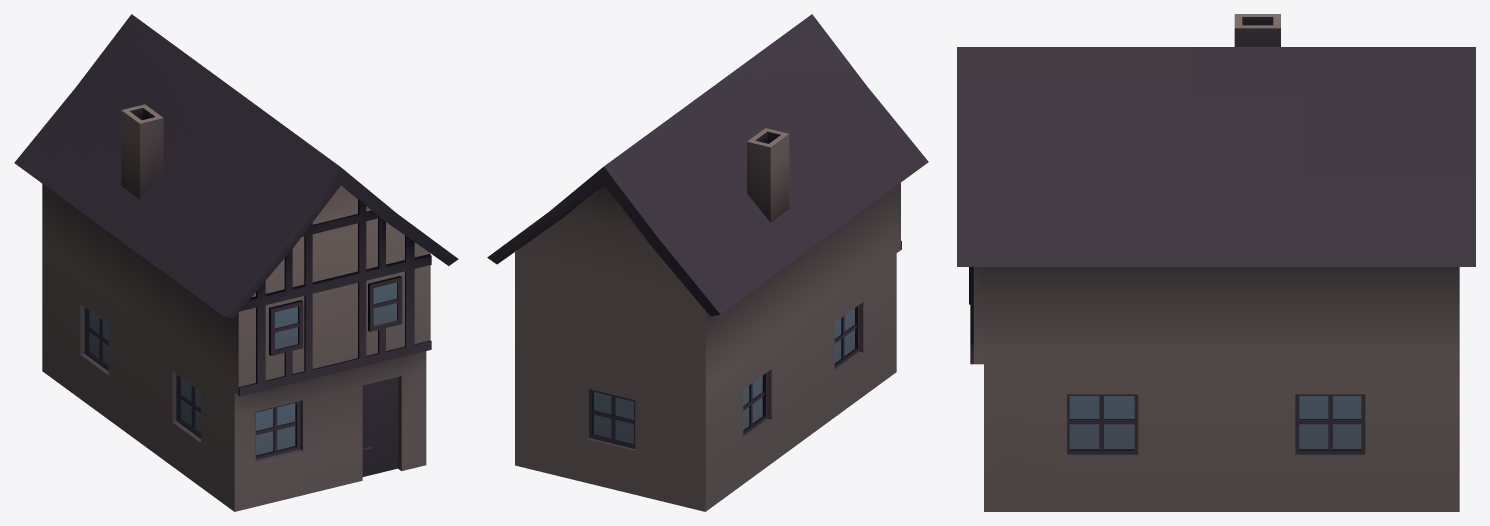
The model's file is buildings-historical-medievalcottage_v4.glb.
3 views of the same model, side by side, from view 1: azimuth 30°, elevation 25°; view 2: azimuth 150°, elevation 25°; view 3: azimuth 270°, elevation 25° (orthographic). The views are drawn at different scales.
Visible parts, largest first — view 1: MedievalCottage_v4_base, MedievalCottage_v4_windowRefl; view 2: MedievalCottage_v4_base, MedievalCottage_v4_windowRefl; view 3: MedievalCottage_v4_base, MedievalCottage_v4_windowRefl.
Boxes of the visible parts, x1,y1,x2,y2 form: MedievalCottage_v4_base: (14, 14, 458, 511); MedievalCottage_v4_windowRefl: (89, 282, 396, 455); MedievalCottage_v4_base: (487, 14, 928, 511); MedievalCottage_v4_windowRefl: (594, 308, 854, 443); MedievalCottage_v4_base: (957, 14, 1475, 511); MedievalCottage_v4_windowRefl: (1069, 396, 1361, 448).
Bounding box in the file's own units: 7.06 × 9.45 × 10.91.
